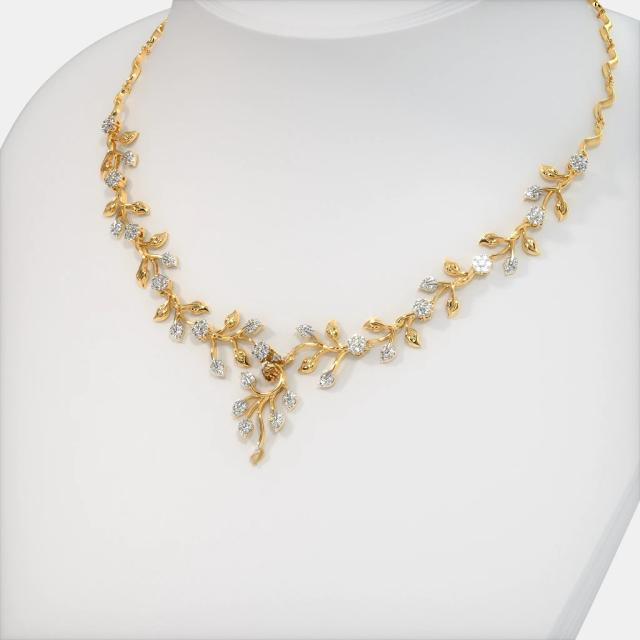missing gem: (262, 349, 282, 383)
